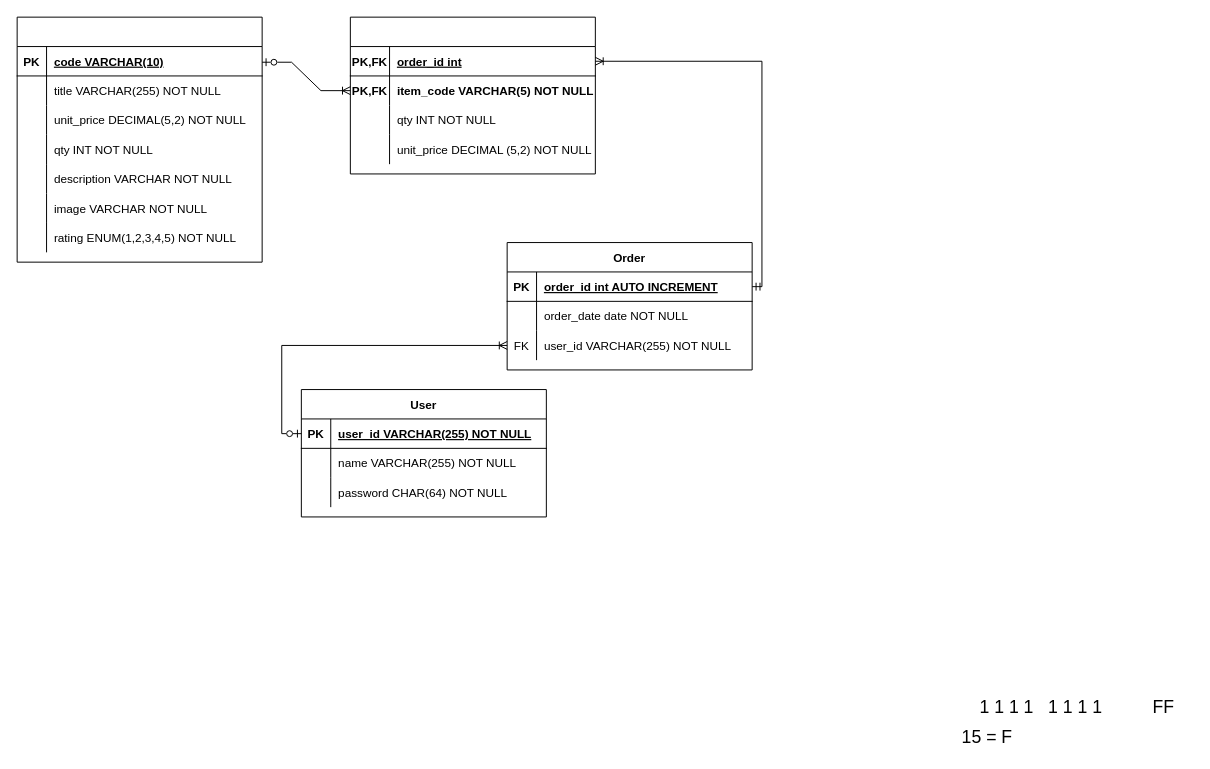
This 1210x769 diagram has some shape labels left out. Each missing label, with the box of its shape:
Item: (16, 16, 262, 262)
Order Detail: (349, 16, 595, 174)
